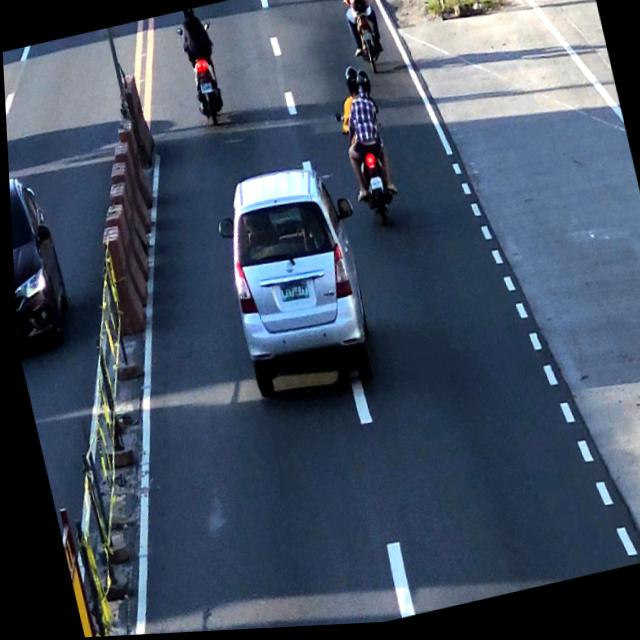Car: (207, 160, 382, 405)
License-Plate: (274, 282, 308, 308), (365, 177, 384, 194), (195, 81, 214, 97)
Motorcycle: (324, 66, 400, 232), (170, 6, 230, 135), (335, 0, 386, 76)
